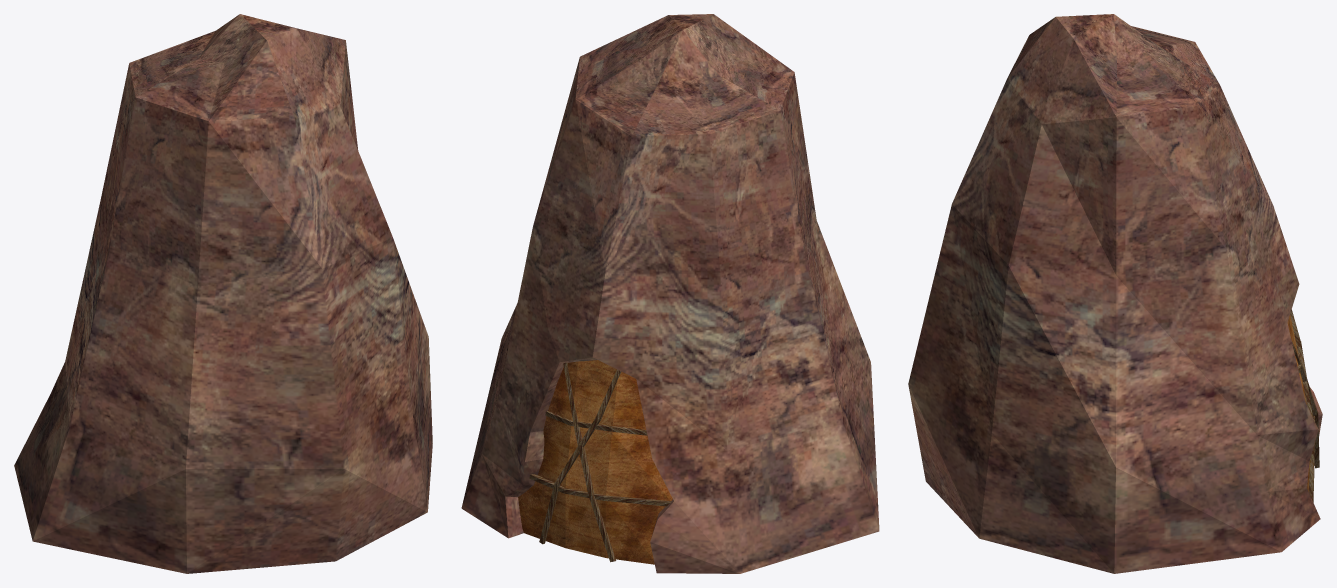
Rendered from thm_dath_night_sister_hut_s01_l2.fbx.
3 renders of one model, left to right at view 1: azimuth 30°, elevation 25°; view 2: azimuth 150°, elevation 25°; view 3: azimuth 270°, elevation 25°, orthographic. The views are drawn at different scales.
Parts seen in each view (by area): view 1: mesh_node; view 2: mesh_node; view 3: mesh_node.
Boxes of the visible parts, box(x1,y1,x2,y2) form: mesh_node: box(14, 14, 432, 573); mesh_node: box(461, 14, 879, 573); mesh_node: box(908, 14, 1322, 573).
Size of the model in its own units: 5.44 by 6.23 by 4.98.
